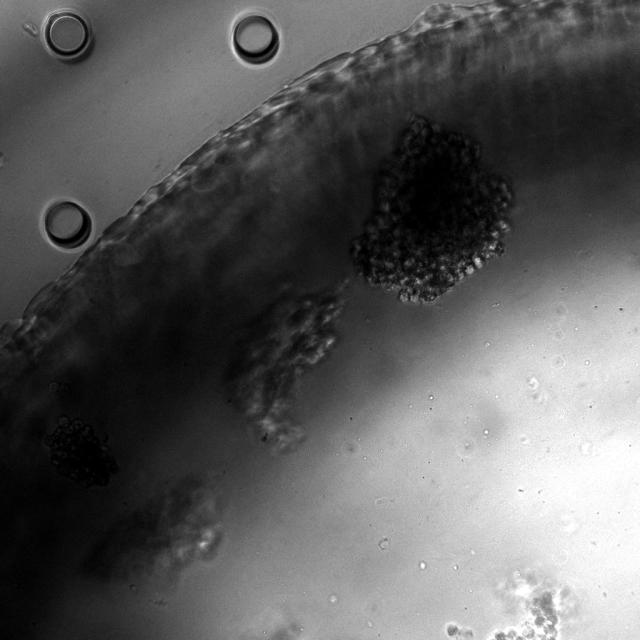organoid: (350, 115, 511, 302), (229, 285, 344, 452), (84, 475, 225, 589), (487, 574, 579, 639), (446, 622, 474, 639)
